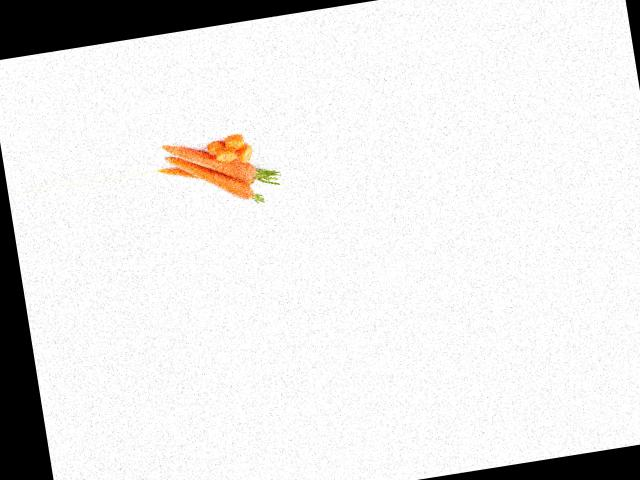carrot: (160, 130, 265, 194)
